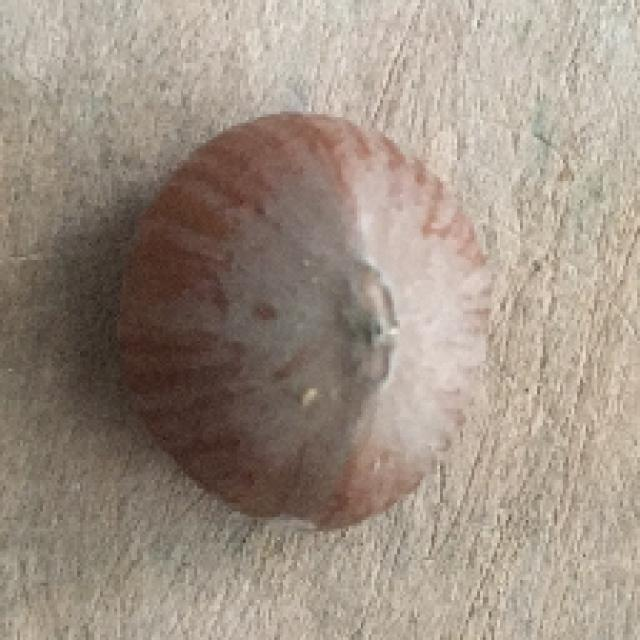qualityHazelnut: (106, 104, 497, 541)
